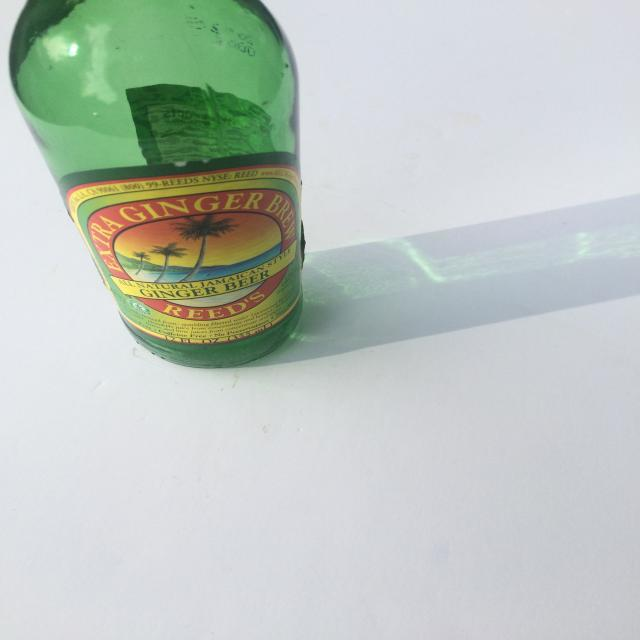glass: (4, 0, 309, 368)
